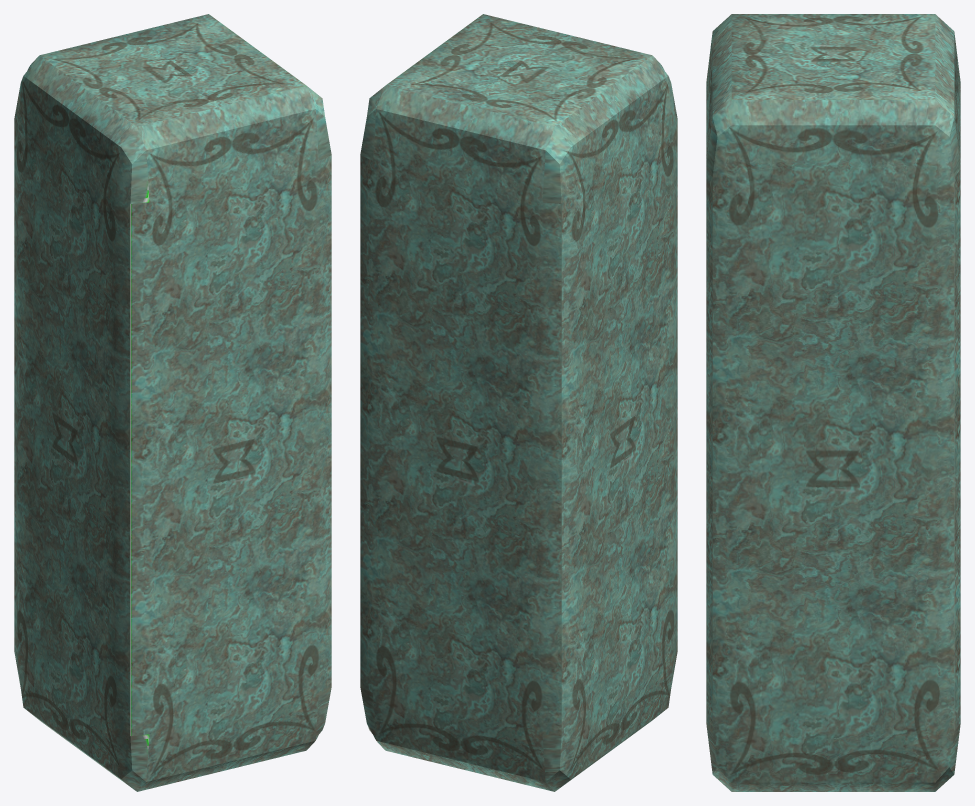
File: TeleportStone3.FBX
3 renders of one model, left to right at view 1: azimuth 30°, elevation 25°; view 2: azimuth 150°, elevation 25°; view 3: azimuth 270°, elevation 25°, orthographic. The views are drawn at different scales.
Visible parts, largest first — view 1: Box002; view 2: Box002; view 3: Box002.
Part boxes in pixels (x1=…): Box002: x1=14, y1=14, x2=331, y2=791; Box002: x1=360, y1=14, x2=677, y2=791; Box002: x1=706, y1=14, x2=960, y2=791.
Size of the model in its own units: 10 by 30 by 10.
